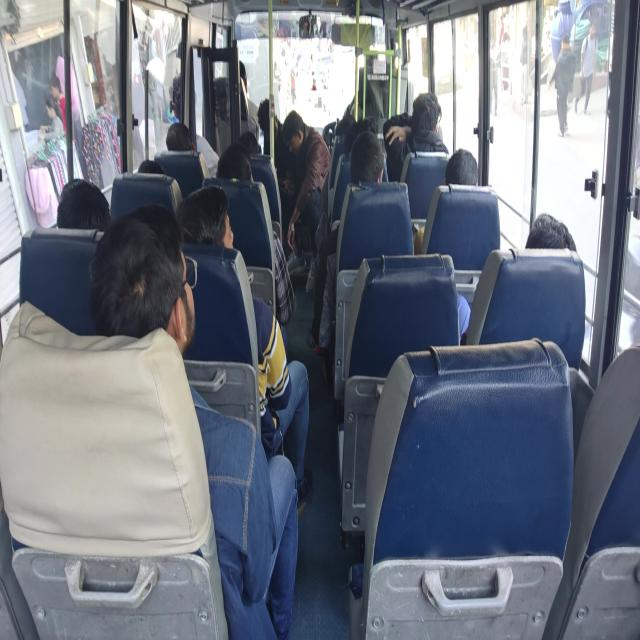person: (115, 230, 201, 351), (181, 188, 236, 246), (56, 174, 111, 230), (522, 209, 578, 256), (353, 136, 387, 188), (412, 98, 442, 148), (167, 73, 197, 120), (446, 147, 480, 184), (162, 119, 203, 149), (130, 152, 169, 178), (223, 153, 256, 182), (286, 115, 305, 153), (336, 118, 359, 148), (238, 133, 266, 155), (261, 105, 278, 140), (234, 70, 251, 102)
